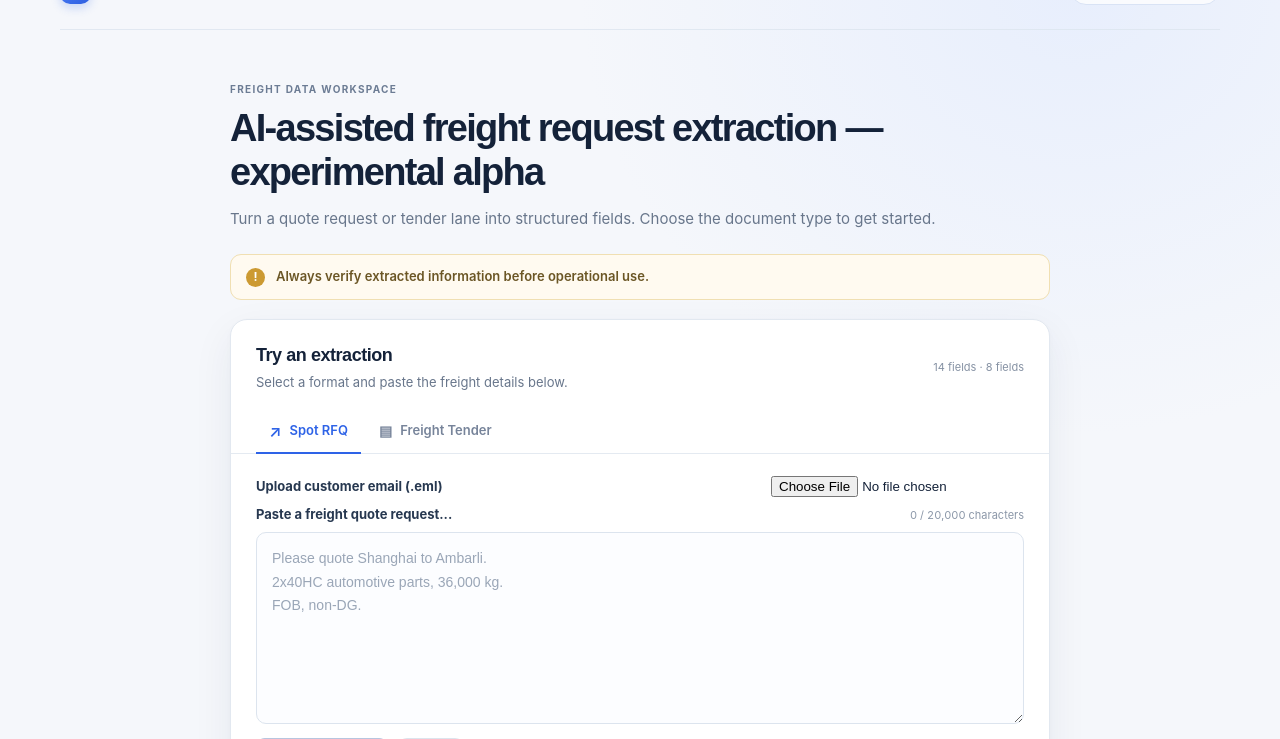
RFQ review and pricing › requires explicit confirmation of unknown dangerous goods
The image size is (1280, 739).
Replace the text in the text box with placeholder "Please quote Shanghai" with "Synthetic RFQ" at coordinates (640, 628), box left=256, top=532, right=1024, bottom=724
(page scrolled)
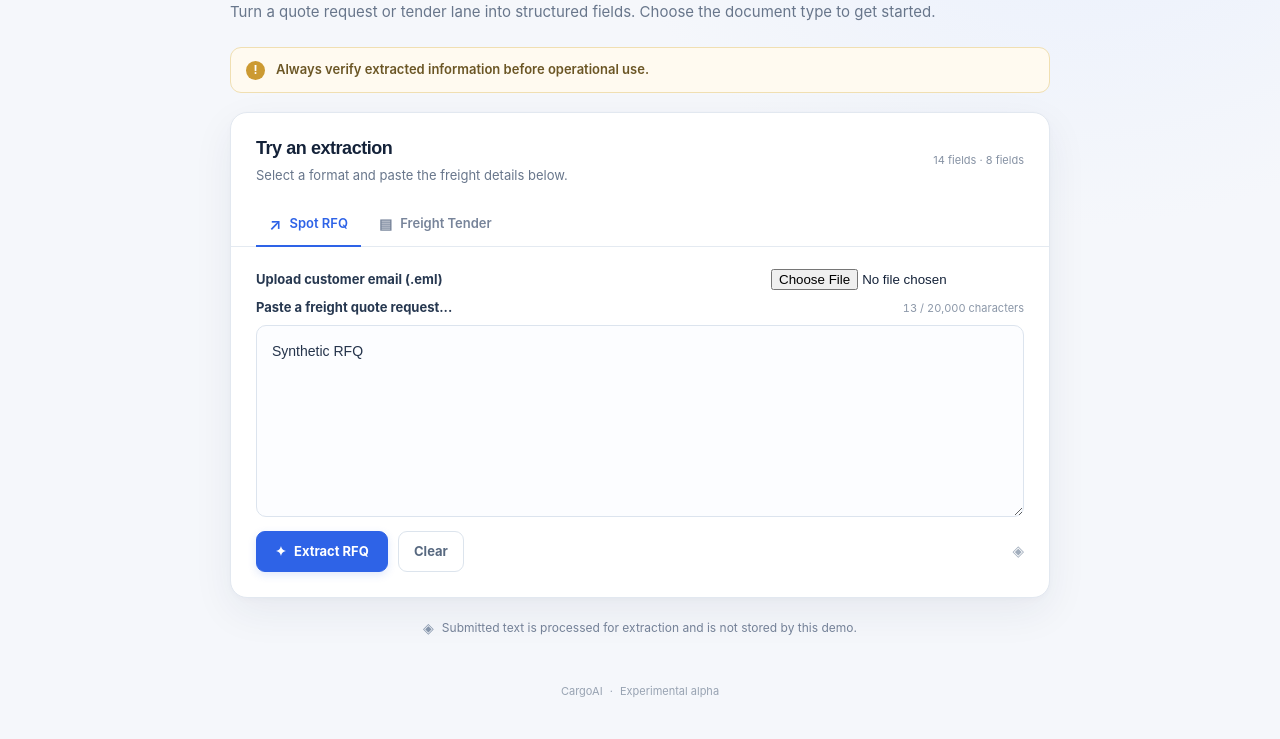
Click the button "✦ Extract RFQ" at coordinates (322, 552), box left=256, top=531, right=388, bottom=572
(page scrolled)
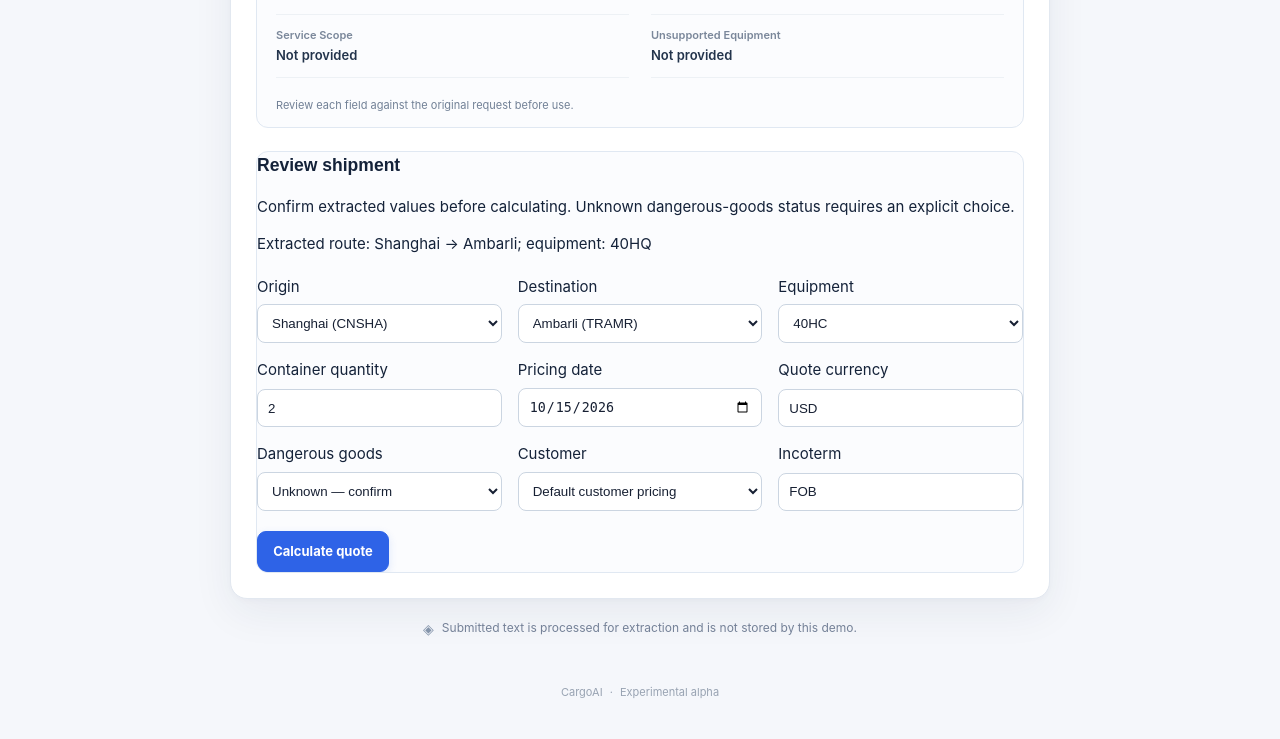
Now the button "Calculate quote" is enabled
Now the dropdown labelled "Dangerous goods" shows "Unknown — confirm", box left=257, top=472, right=502, bottom=511
Click the button "Calculate quote" at coordinates (323, 551), box left=257, top=531, right=389, bottom=572
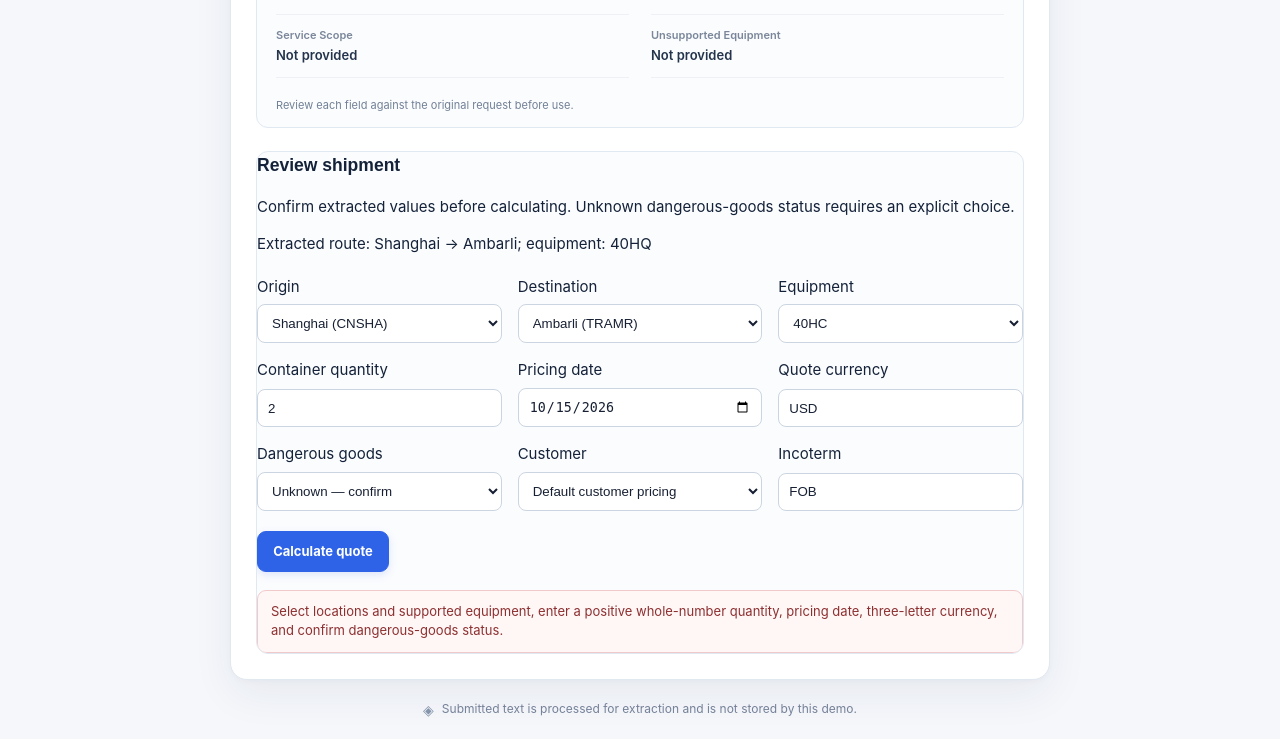
Now the message shows "confirm dangerous-goods status", box left=271, top=603, right=998, bottom=638
